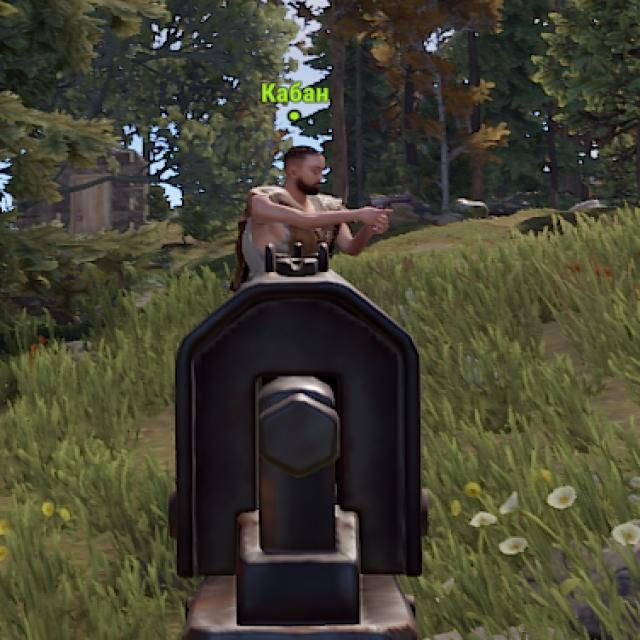Player: (238, 146, 366, 244)
